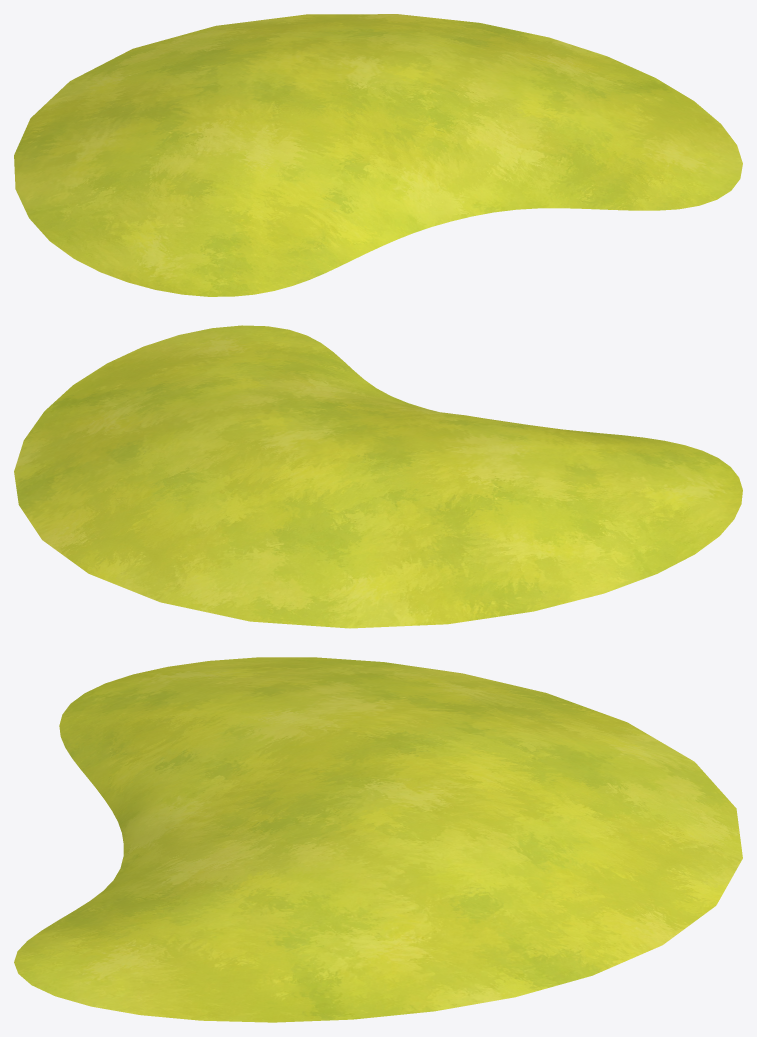
Rendered from Farm_Ground_02.fbx.
3 renders of one model, top to bottom at view 1: azimuth 30°, elevation 25°; view 2: azimuth 150°, elevation 25°; view 3: azimuth 270°, elevation 25°, orthographic. The views are drawn at different scales.
Parts seen in each view (by area): view 1: Farm_Ground_02; view 2: Farm_Ground_02; view 3: Farm_Ground_02.
Part boxes in pixels (x1,y1,x2,y2): Farm_Ground_02: (14, 14, 742, 296); Farm_Ground_02: (14, 325, 742, 628); Farm_Ground_02: (14, 657, 742, 1022).
Size of the model in its own units: 1656 by 1397 by 147.
